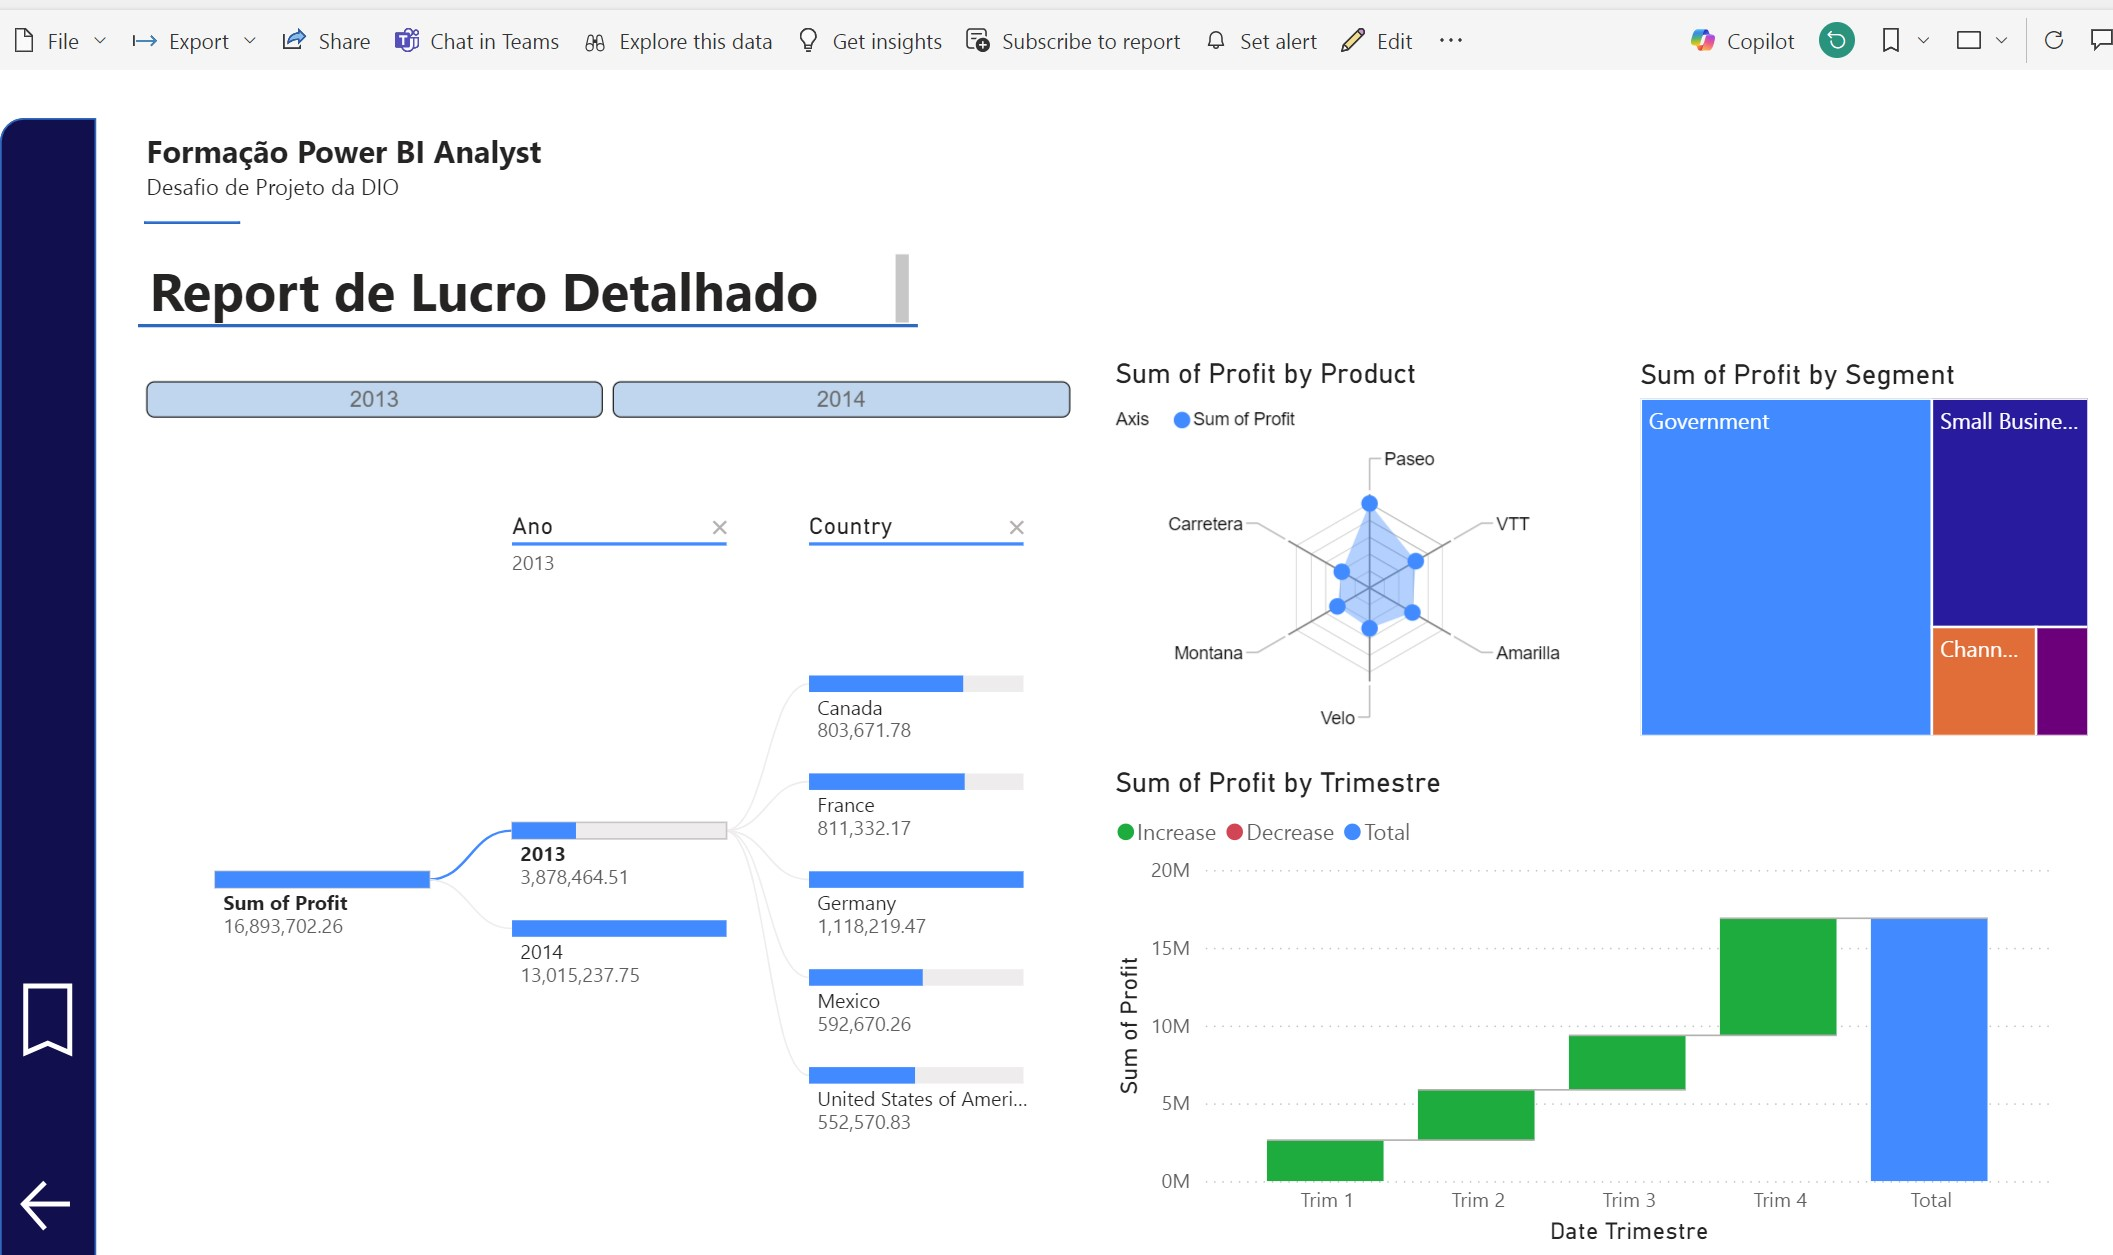

The page's visual inventory and layout, read from the dashboard file:
{"tool":"powerbi","page":{"name":"Página 1","canvas":[1280,720],"ordinal":1},"visuals":[{"type":"shape","box":[0,20.1,58.3,700],"z":0},{"type":"shape","box":[83.9,127.8,473,37.1],"z":0,"group":"g1"},{"type":"shape","box":[87.5,22.1,58.3,62.4],"z":1000},{"type":"textbox","box":[85.3,97.6,470.2,52.2],"z":1000,"group":"g1"},{"type":"image","box":[89.5,44.3,57.3,39.2],"z":2000},{"type":"shape","title":"Fundo do Título","box":[71.5,20.6,1198.9,61.9],"z":3000},{"type":"textbox","title":"Título do report","box":[83.9,22,378.1,63.2],"z":4000},{"type":"shape","box":[79.7,233.7,576.1,473],"z":5000},{"type":"decompositionTreeVisual","fields":{"Analyze":["Sum(financials.Profit)"],"ExplainBy":["financials.Date.Variation.Hierarquia de datas.Ano","financials.Country"]},"box":[99.8,242.2,536.3,456.5],"z":6000},{"type":"waterfallChart","fields":{"Category":["financials.Date.Variation.Hierarquia de datas.Trimestre"],"Y":["Sum(financials.Profit)"]},"box":[670.9,412.5,577.4,294.2],"z":7000},{"type":"ChicletSlicer1448559807354","fields":{"Category":["financials.Date.Variation.Hierarquia de datas.Ano"]},"box":[79.7,170.5,576.1,48.1],"z":8000},{"type":"treemap","fields":{"Values":["Sum(financials.Profit)"],"Group":["financials.Segment"]},"box":[988.8,165,281.2,233.8],"z":9000},{"type":"group","id":"g1","title":"Sales report","box":[83.9,97.6,473,67.4],"z":10000},{"type":"actionButton","box":[1,513.9,56.3,105.6],"z":11000},{"type":"actionButton","box":[8,658.8,45.3,40.2],"z":12000},{"type":"RadarChart1446119667547","fields":{"Category":["financials.Product"],"Y":["Sum(financials.Profit)"]},"box":[670.9,165,317.6,233.7],"z":12001}]}

Visuals, with their boxes on the page's 1280x720 design canvas (x1, y1, x2, y2). These are canvas units, not pixel positions in the 2113x1255 screenshot, which may show the page scaled, cropped or inside an application window:
shape: l=0, t=20, r=58, b=720
shape: l=84, t=128, r=557, b=165
shape: l=88, t=22, r=146, b=84
textbox: l=85, t=98, r=556, b=150
image: l=90, t=44, r=147, b=84
"Fundo do Título" shape: l=72, t=21, r=1270, b=82
"Título do report" textbox: l=84, t=22, r=462, b=85
shape: l=80, t=234, r=656, b=707
decompositionTreeVisual - Sum(financials.Profit) x financials.Date.Variation.Hierarquia de datas.Ano: l=100, t=242, r=636, b=699
waterfallChart - financials.Date.Variation.Hierarquia de datas.Trimestre x Sum(financials.Profit): l=671, t=412, r=1248, b=707
ChicletSlicer1448559807354 - financials.Date.Variation.Hierarquia de datas.Ano: l=80, t=170, r=656, b=219
treemap - Sum(financials.Profit) x financials.Segment: l=989, t=165, r=1270, b=399
"Sales report" group: l=84, t=98, r=557, b=165
actionButton: l=1, t=514, r=57, b=620
actionButton: l=8, t=659, r=53, b=699
RadarChart1446119667547 - financials.Product x Sum(financials.Profit): l=671, t=165, r=988, b=399
